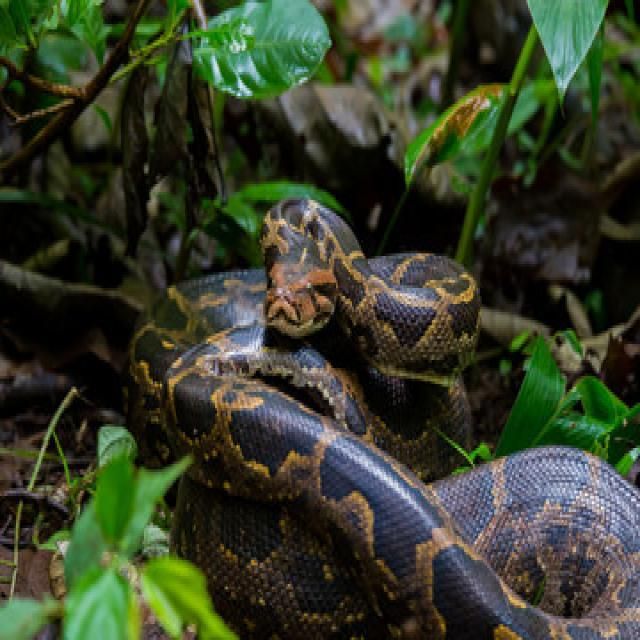Snake: (122, 192, 638, 637)
